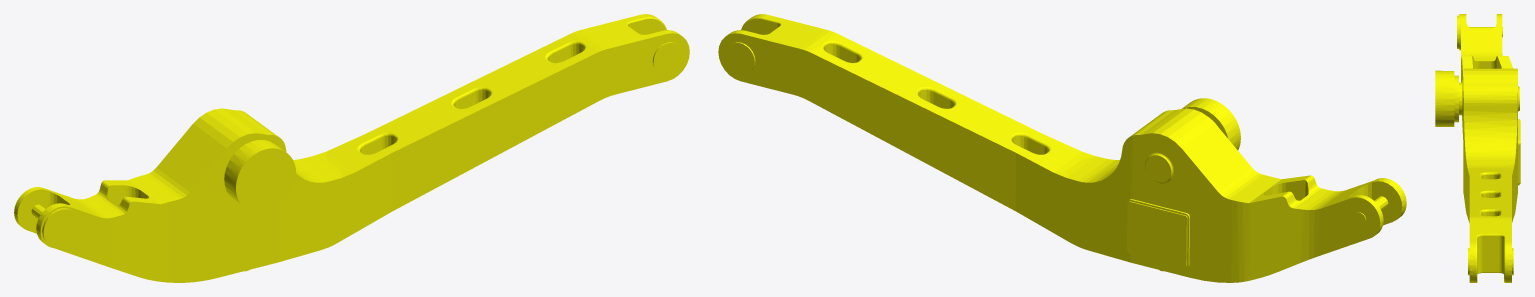
The picture shows the model from 3 angles, left to right: view 1: azimuth 30°, elevation 25°; view 2: azimuth 150°, elevation 25°; view 3: azimuth 270°, elevation 25°; orthographic projection. The views are drawn at different scales.
Visible parts, largest first — view 1: node; view 2: node; view 3: node.
Part boxes in pixels (bbox=[...]): node: bbox=[14, 14, 689, 282]; node: bbox=[718, 14, 1406, 282]; node: bbox=[1435, 14, 1520, 282].
Bounding box in the file's own units: 2019 × 410 × 281.
